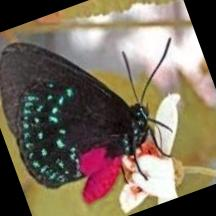butterfly: (0, 40, 152, 202)
